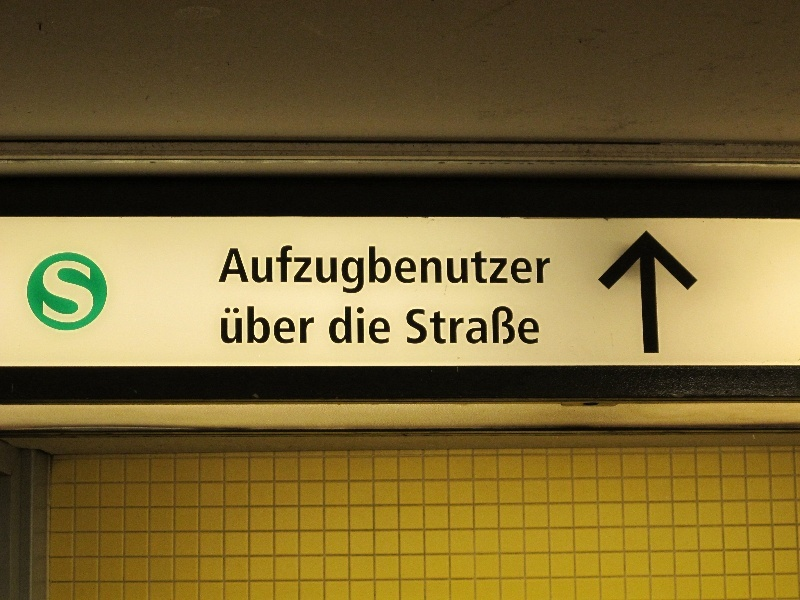text: (241, 233, 256, 302), (257, 233, 272, 302), (273, 233, 288, 302), (289, 233, 304, 302), (305, 233, 320, 302), (321, 233, 336, 302), (337, 233, 352, 302), (353, 233, 368, 302), (369, 233, 384, 302), (385, 233, 400, 302), (401, 233, 416, 302), (417, 233, 432, 302), (433, 233, 448, 302), (449, 233, 464, 302), (465, 233, 480, 302), (481, 233, 496, 302), (497, 233, 512, 302), (513, 233, 528, 302), (529, 233, 544, 302), (545, 233, 560, 302), (49, 256, 64, 325), (65, 256, 80, 325), (81, 256, 94, 325), (230, 233, 240, 302), (417, 305, 432, 345), (433, 305, 448, 345), (449, 305, 464, 345), (465, 305, 480, 345), (481, 305, 496, 345), (497, 305, 512, 345), (513, 305, 528, 345), (337, 306, 352, 345), (353, 306, 368, 345), (369, 306, 384, 345), (225, 305, 240, 344), (241, 305, 256, 344), (257, 305, 272, 344), (273, 305, 288, 344), (289, 305, 304, 344), (529, 305, 543, 345), (305, 305, 319, 344), (42, 256, 48, 325), (407, 305, 416, 345), (385, 306, 393, 345), (329, 306, 336, 345), (221, 305, 224, 344), (561, 233, 562, 302)
